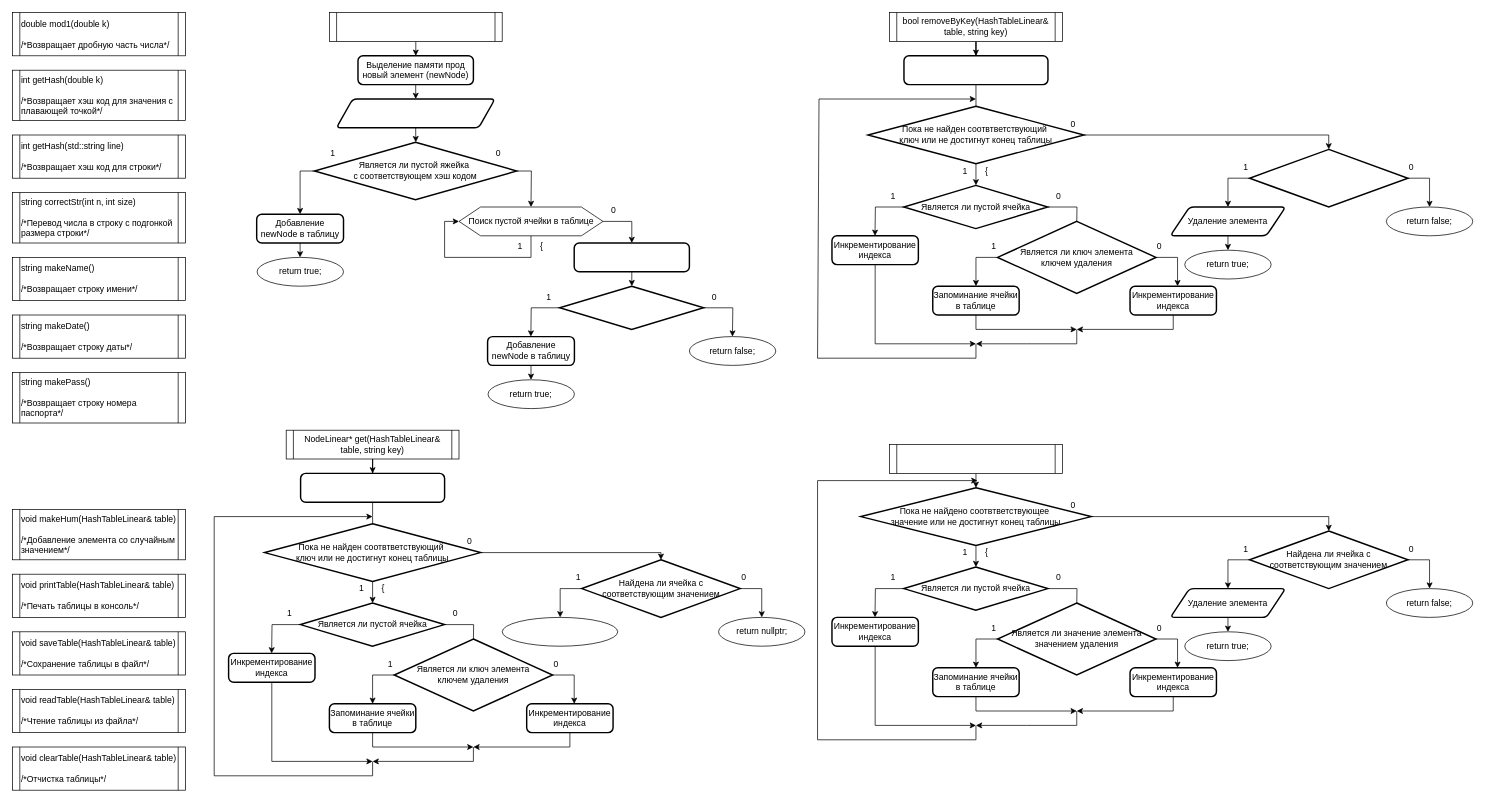
Image size: 1485x803. Some labels were removed from this diagram. Here are the shapes that lost their labels. From the top down, the centre of each, then its label:
At [415,26]: "bool add(HashTableLinear& table, string key, string custData)".
At [975,70]: "Получение хэш кода удаляемого по ключу элемента".
At [415,113]: "Получение хэш кода (hash) по введеному ключу (key)".
At [1328,177]: "Найдена ли ячейка с соответствующим ключем".
At [631,257]: "Сохранение полученного индекса и числа колизий".
At [631,307]: "Является ли корректным полученный индекс".
At [975,458]: "bool removeByData(HashTableLinear& table, string dat)".
At [372,487]: "Получение хэш кода искомого по ключу элемента".
At [559,631]: "return /*указатель на элемент*/".
